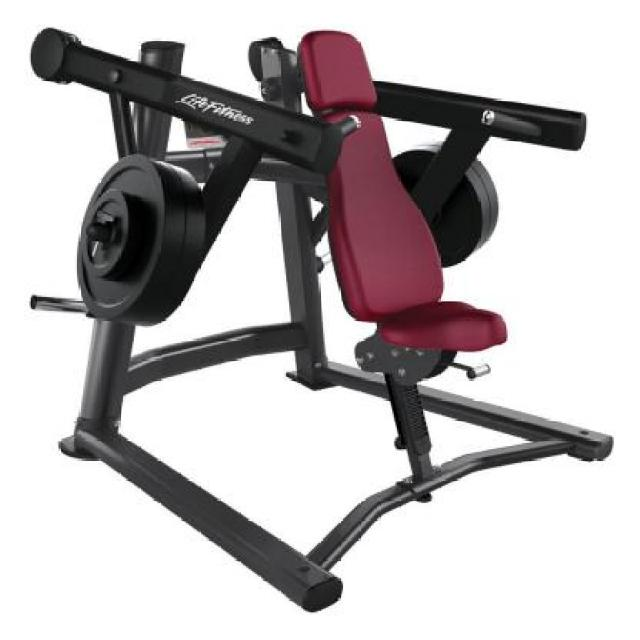shoulder press machine: (23, 26, 617, 612)
